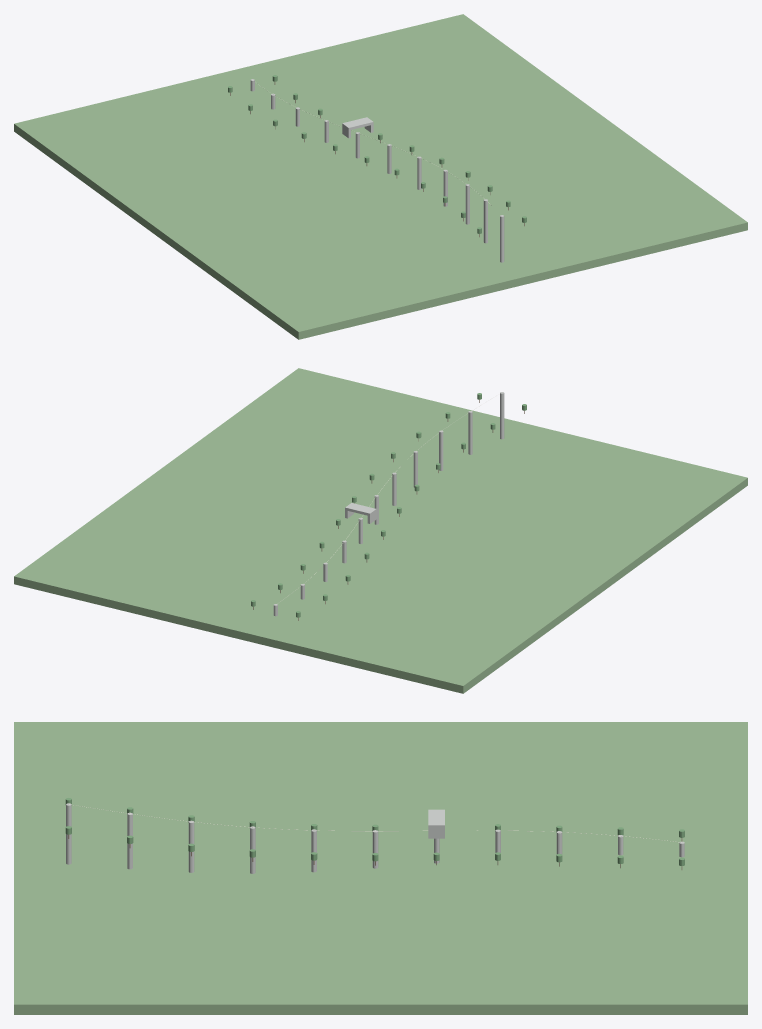
The model's file is imigrantes.glb.
3 renders of one model, top to bottom at view 1: azimuth 30°, elevation 25°; view 2: azimuth 150°, elevation 25°; view 3: azimuth 270°, elevation 25°, orthographic. The views are drawn at different scales.
Parts seen in each view (by area): view 1: valley_0000; view 2: valley_0000; view 3: valley_0000.
Boxes of the visible parts, x1,y1,x2,y2 form: valley_0000: (14, 14, 747, 339); valley_0000: (14, 368, 747, 693); valley_0000: (14, 722, 747, 1014).
Size of what is drawn, in the model's own units: 360 by 41.08 by 395.
